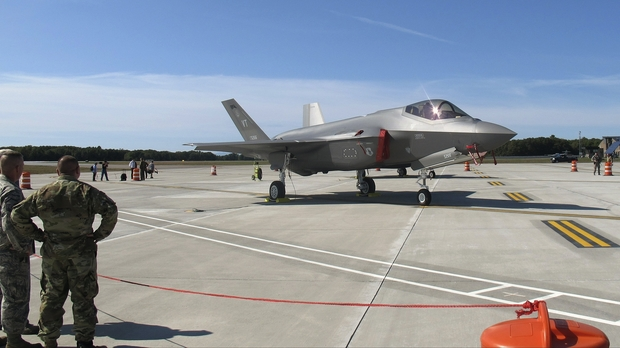F-35 Lightning: (199, 71, 549, 232)
